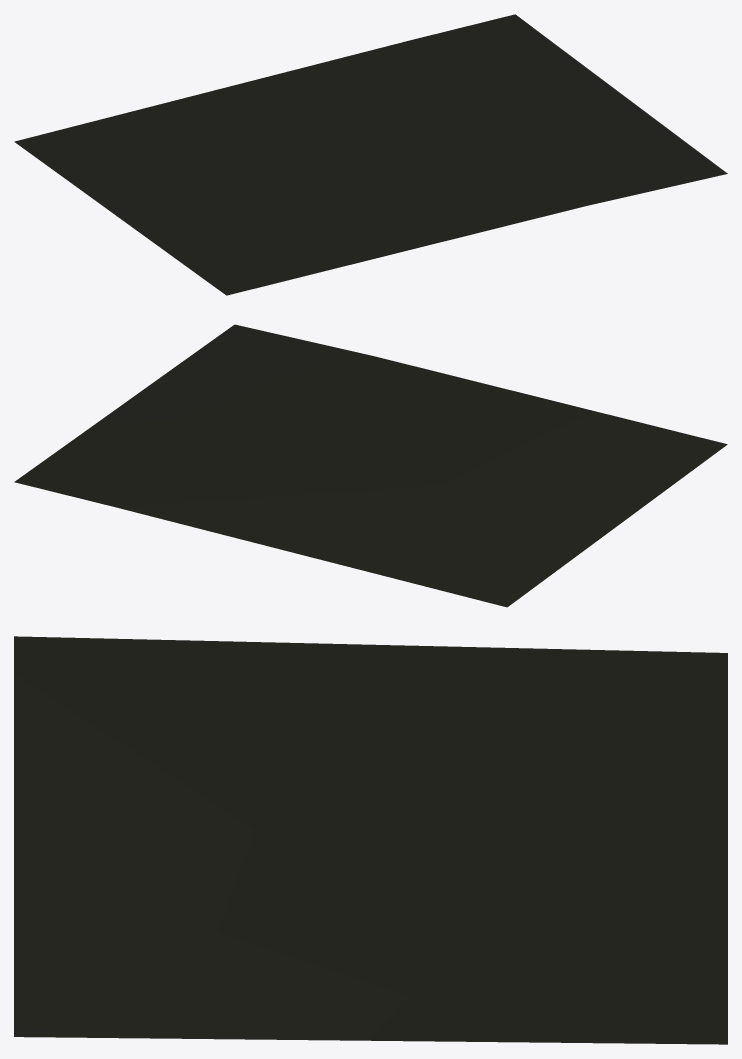
File: OZ_99_sn_sdwbox03C.glb
3 renders of one model, top to bottom at view 1: azimuth 30°, elevation 25°; view 2: azimuth 150°, elevation 25°; view 3: azimuth 270°, elevation 25°, orthographic. The views are drawn at different scales.
Parts seen in each view (by area): view 1: OM_99_sn_sdwbox03C; view 2: OM_99_sn_sdwbox03C; view 3: OM_99_sn_sdwbox03C.
Boxes of the visible parts, x1,y1,x2,y2 form: OM_99_sn_sdwbox03C: [14, 14, 727, 295]; OM_99_sn_sdwbox03C: [14, 324, 727, 607]; OM_99_sn_sdwbox03C: [14, 636, 727, 1044].
Bounding box in the file's own units: 2.34 × 0.0404 × 1.74.
Materials: 1 (1 with a texture image).
